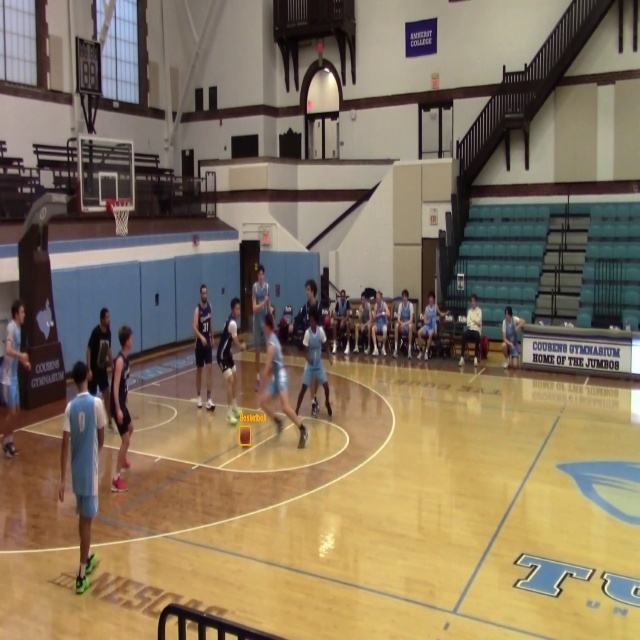Basketball: (240, 426, 251, 445)
